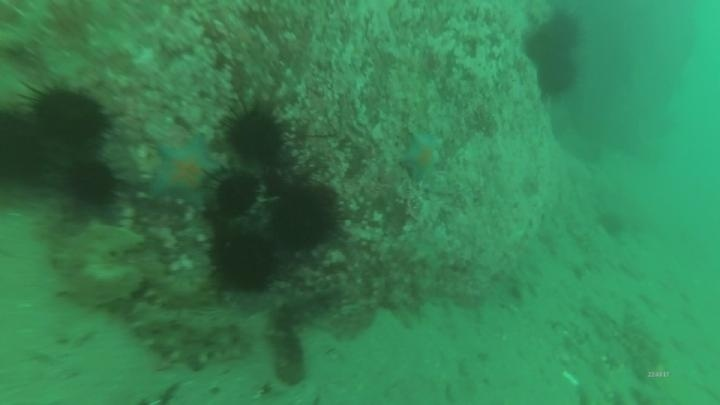echinus: (27, 83, 112, 148), (268, 183, 343, 254), (209, 230, 280, 295), (221, 101, 290, 166), (1, 107, 50, 189), (64, 158, 121, 210), (212, 170, 262, 218), (534, 53, 579, 98), (542, 9, 585, 53), (522, 25, 567, 67), (595, 208, 627, 239)
holothurian: (126, 301, 256, 372), (52, 221, 149, 310), (265, 299, 309, 389), (134, 267, 216, 313), (1, 1, 59, 59)
starfish: (146, 135, 223, 211), (398, 129, 446, 184)
